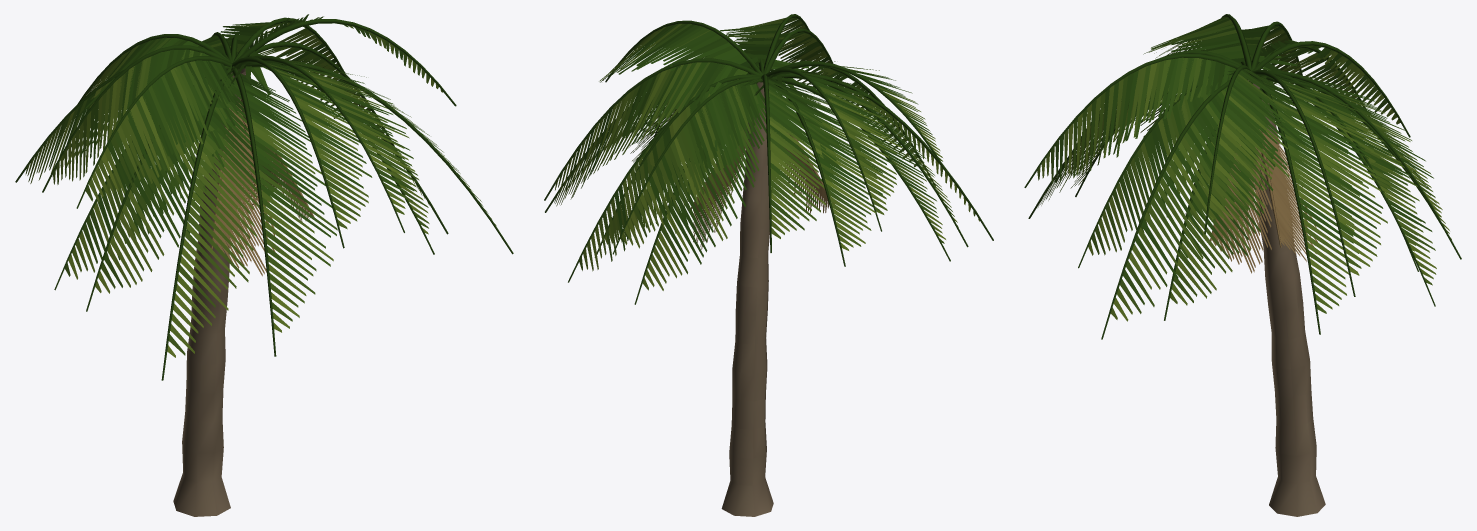
Rendered from PLN_FernTree_Medium.fbx.
The picture shows the model from 3 angles, left to right: view 1: azimuth 30°, elevation 25°; view 2: azimuth 150°, elevation 25°; view 3: azimuth 270°, elevation 25°; orthographic projection. The views are drawn at different scales.
Parts seen in each view (by area): view 1: PLN_FernTree_Medium; view 2: PLN_FernTree_Medium; view 3: PLN_FernTree_Medium.
Boxes of the visible parts, bbox=[...] form: PLN_FernTree_Medium: bbox=[15, 14, 513, 516]; PLN_FernTree_Medium: bbox=[544, 14, 993, 516]; PLN_FernTree_Medium: bbox=[1024, 14, 1461, 516].
Bounding box in the file's own units: 4.55 × 5.32 × 4.53.
